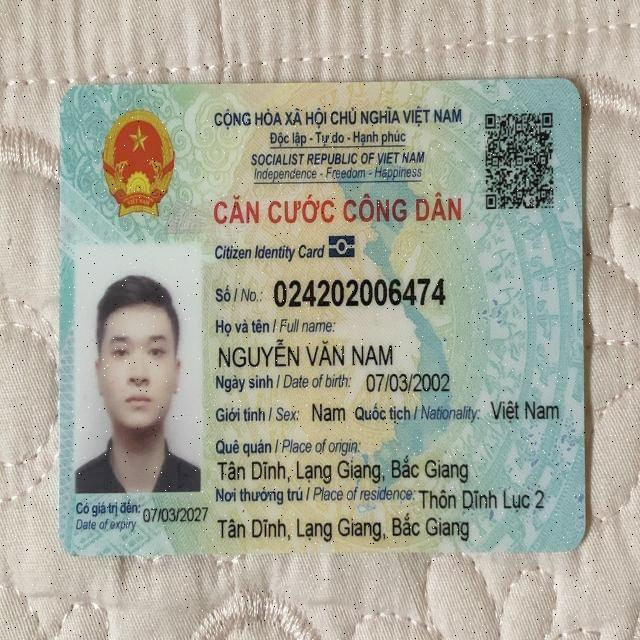current_place: (217, 512, 470, 543), (416, 486, 546, 514)
dob: (361, 371, 453, 400)
expire_date: (142, 505, 213, 526)
gender: (307, 395, 350, 430)
id: (268, 272, 453, 308)
name: (215, 341, 408, 369)
nationality: (488, 393, 563, 426)
origin_place: (218, 454, 468, 487)
qr: (482, 110, 560, 210)
